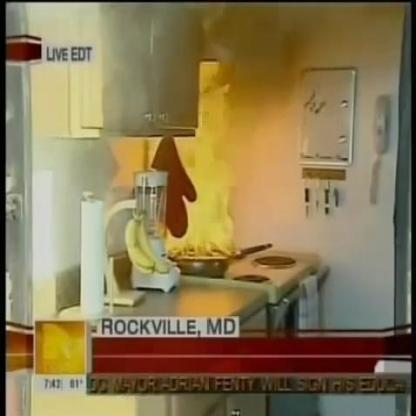fire: (177, 130, 236, 258)
